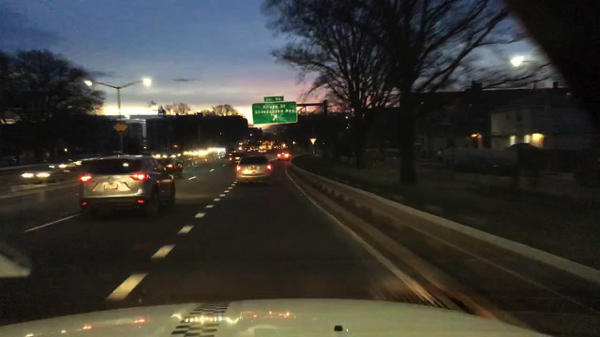bus: (262, 143, 272, 150)
car: (77, 156, 176, 219), (234, 154, 272, 184), (14, 165, 66, 182), (154, 158, 184, 178), (47, 160, 82, 172), (275, 149, 290, 162), (228, 153, 243, 165), (226, 149, 243, 156), (193, 149, 205, 156), (183, 149, 193, 156), (208, 147, 218, 152), (250, 146, 257, 151)
traffic sign: (251, 103, 298, 123), (263, 96, 285, 102), (114, 123, 127, 131), (310, 138, 317, 145)
